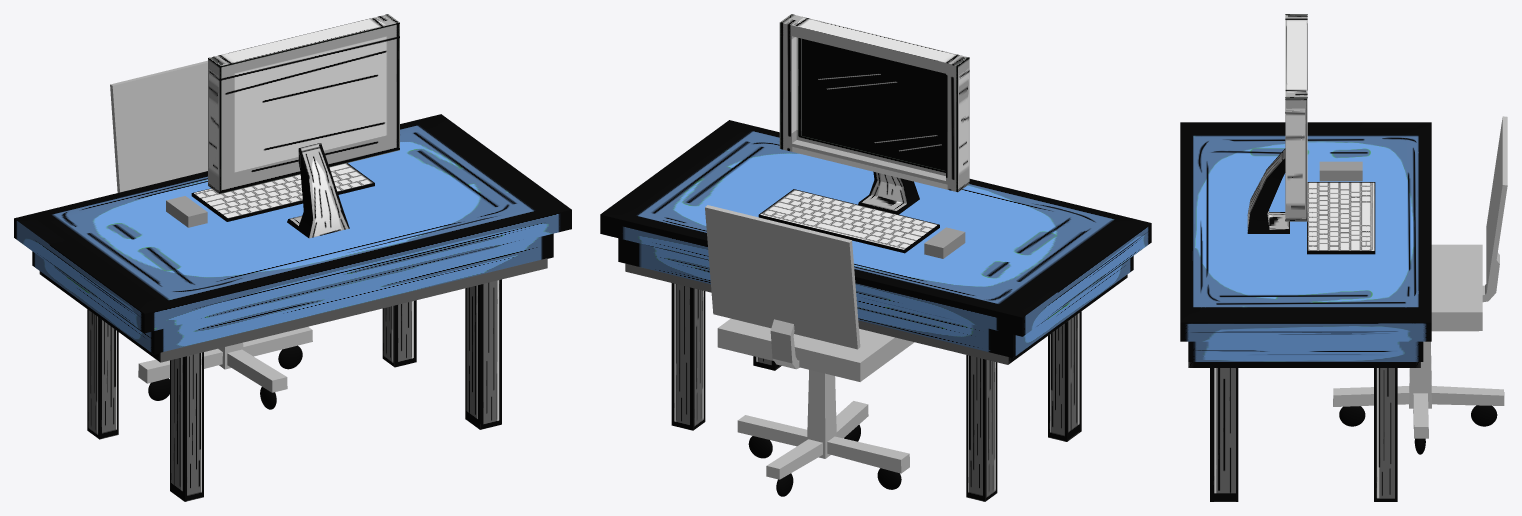
The model's file is lab.fbx.
3 renders of one model, left to right at view 1: azimuth 30°, elevation 25°; view 2: azimuth 150°, elevation 25°; view 3: azimuth 270°, elevation 25°, orthographic. The views are drawn at different scales.
Parts seen in each view (by area): view 1: polySurface42, polySurface38, polySurface41, polySurface30; view 2: polySurface42, polySurface38, polySurface30, polySurface41; view 3: polySurface42, polySurface38, polySurface30, polySurface41.
Part boxes in pixels (x1,y1,x2,y2): polySurface42: (14,114,571,354); polySurface38: (166,14,399,238); polySurface41: (39,258,547,501); polySurface30: (110,60,312,409); polySurface42: (600,120,1151,357); polySurface38: (758,14,969,258); polySurface30: (705,205,914,496); polySurface41: (625,263,1127,501); polySurface42: (1180,122,1431,361); polySurface38: (1247,14,1375,254); polySurface30: (1333,116,1507,454); polySurface41: (1188,362,1420,501).
Size of the model in its own units: 73.63 by 64.01 by 50.8.
